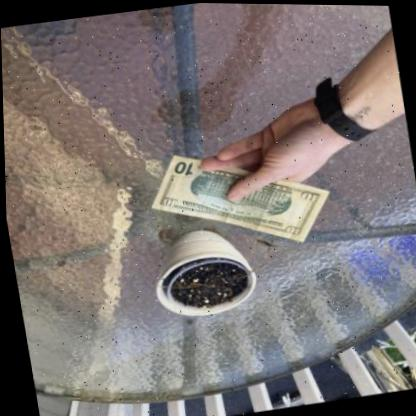ten-back: (149, 154, 328, 241)
